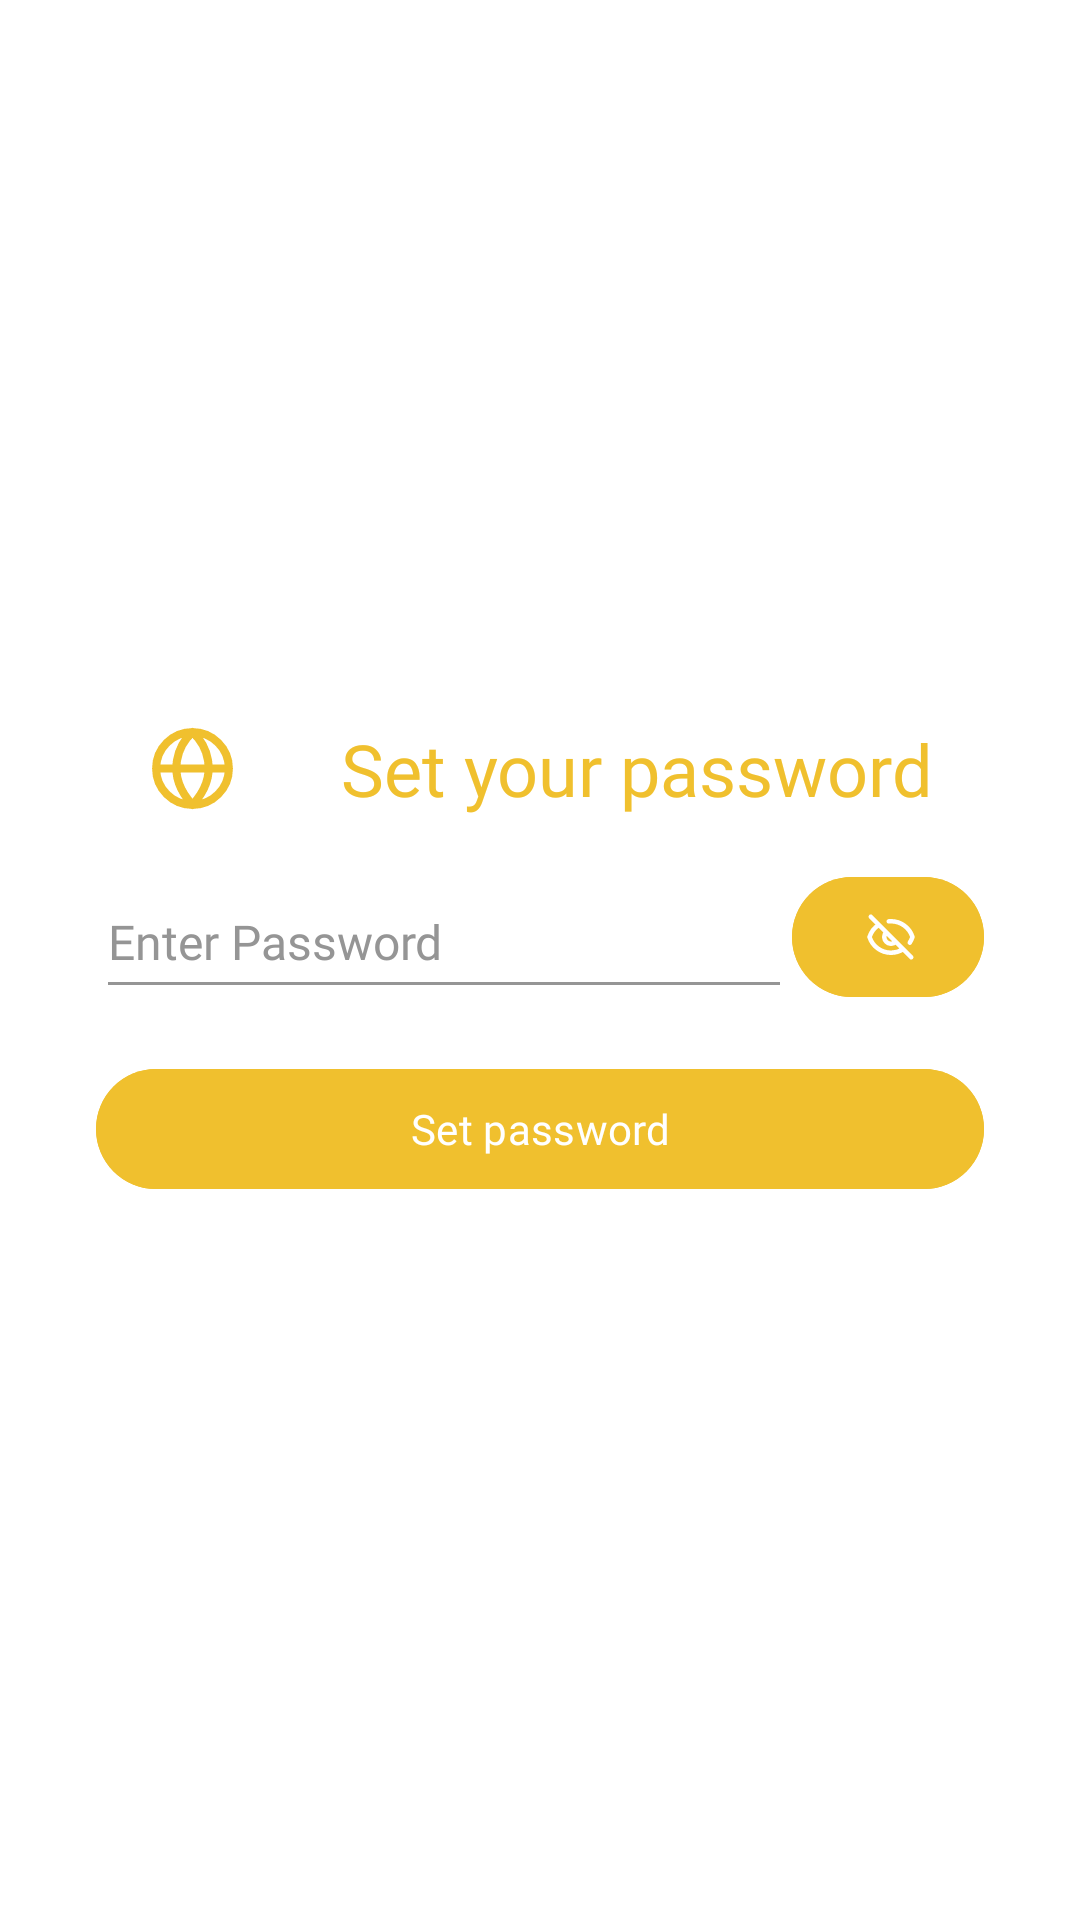

Locate icon controls on the screen. Image size 1080 x 1920, boxes as (x1, y1, x2, y2).
eye: (792, 877, 984, 997)
web: (152, 727, 233, 810)
